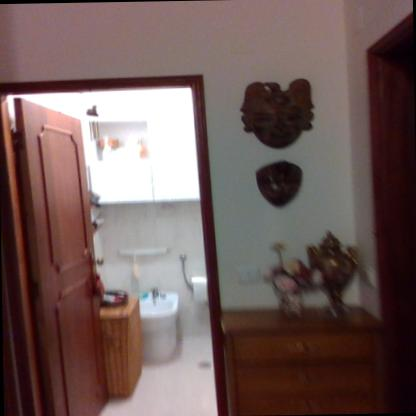open: (0, 63, 230, 416)
